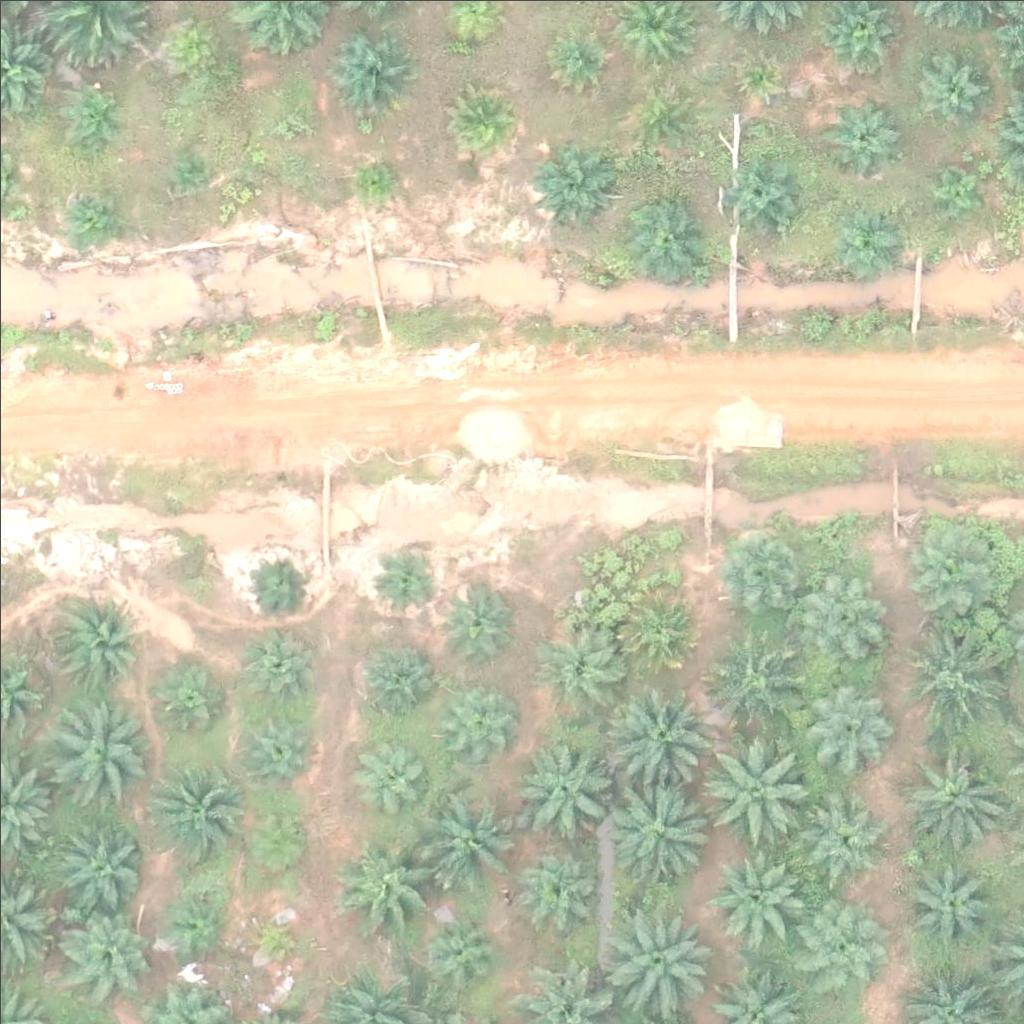Kelapa_Sawit: (606, 905, 719, 1019), (601, 679, 714, 792), (609, 775, 722, 888), (702, 732, 814, 846), (902, 610, 1014, 723), (339, 831, 439, 932), (425, 782, 525, 883), (515, 734, 615, 835), (707, 629, 807, 730), (905, 736, 1005, 837), (140, 765, 240, 866), (48, 701, 148, 801), (896, 510, 996, 610), (327, 27, 415, 115), (721, 150, 809, 238), (63, 905, 151, 993), (238, 622, 326, 710), (619, 584, 707, 672), (416, 906, 504, 994), (709, 846, 797, 934), (807, 678, 895, 766), (61, 817, 148, 906), (797, 570, 884, 659), (621, 194, 708, 282), (52, 598, 139, 686), (229, 703, 316, 791), (512, 837, 599, 925), (535, 617, 622, 705), (719, 525, 806, 613), (807, 800, 894, 888), (798, 912, 885, 1000), (904, 861, 991, 949), (537, 138, 612, 214), (828, 96, 903, 172), (358, 732, 433, 808), (356, 644, 431, 720), (157, 884, 232, 960), (238, 797, 313, 873), (150, 663, 225, 738), (438, 678, 513, 753), (440, 578, 515, 653), (838, 212, 901, 275), (449, 91, 512, 154), (379, 549, 442, 612), (918, 57, 980, 120), (247, 553, 309, 616), (627, 85, 689, 148), (244, 909, 306, 972), (69, 195, 119, 245), (74, 92, 124, 142), (555, 34, 605, 84), (928, 165, 978, 215), (172, 146, 210, 184), (359, 162, 396, 200), (183, 28, 220, 65), (744, 62, 781, 99), (282, 111, 307, 137)
